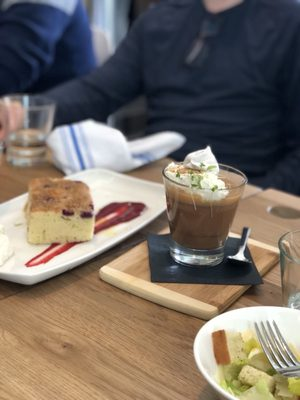pizza: (162, 159, 247, 267), (0, 94, 57, 167)
sushi: (193, 306, 300, 400)
